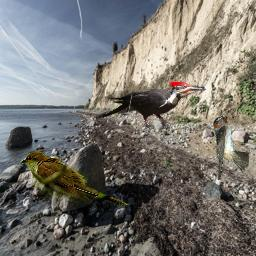Cuckoo: (19, 150, 129, 207)
Swallow: (213, 116, 249, 181)
Woodpecker: (96, 80, 206, 133)
